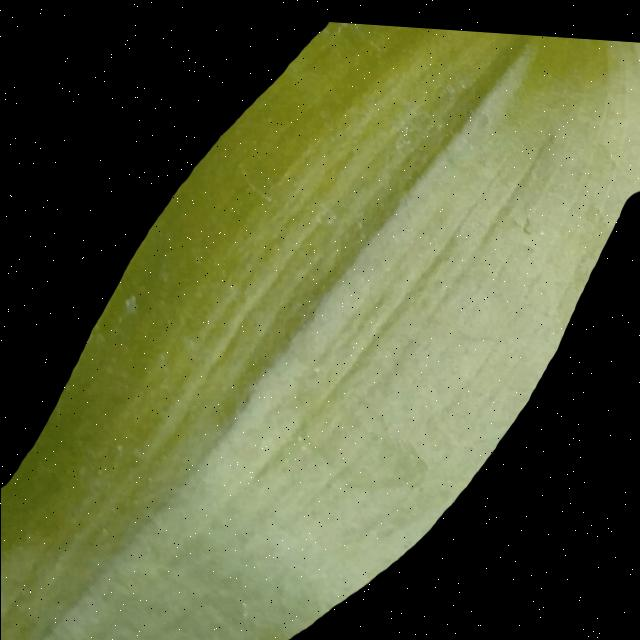mite: (102, 288, 143, 339), (234, 160, 278, 204), (390, 116, 419, 154), (121, 292, 140, 316), (155, 258, 172, 283), (317, 205, 339, 224), (113, 440, 125, 454)
